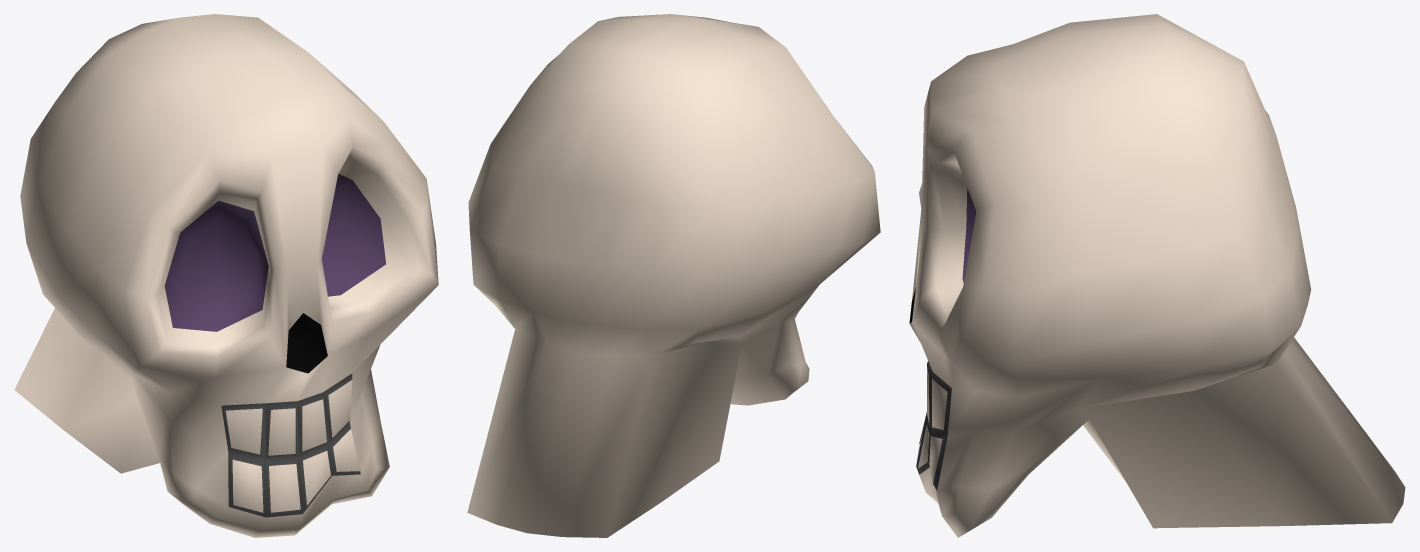
Rendered from NecroHead.fbx.
3 renders of one model, left to right at view 1: azimuth 30°, elevation 25°; view 2: azimuth 150°, elevation 25°; view 3: azimuth 270°, elevation 25°, orthographic. The views are drawn at different scales.
Parts seen in each view (by area): view 1: Head; view 2: Head; view 3: Head.
Part boxes in pixels (x1,y1,x2,y2): Head: (14,14,438,537); Head: (467,14,880,537); Head: (909,14,1405,537).
Bounding box in the file's own units: 0.3681 × 0.4414 × 0.4226.
